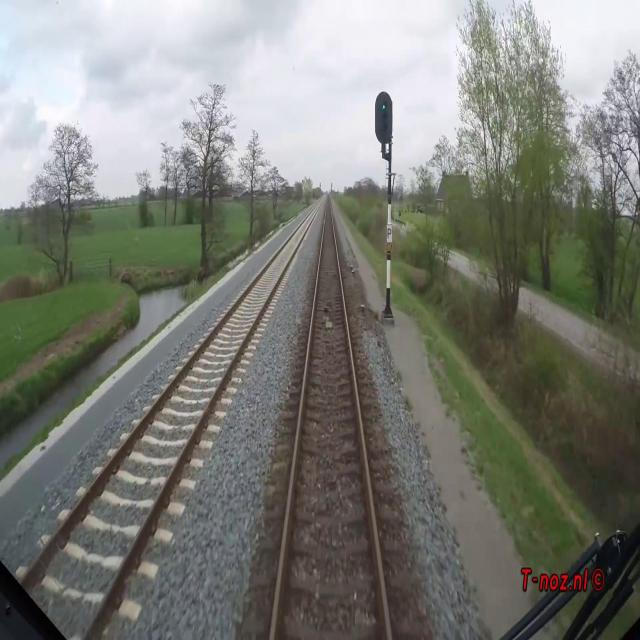rail-track: (21, 195, 324, 639), (274, 196, 388, 639)
